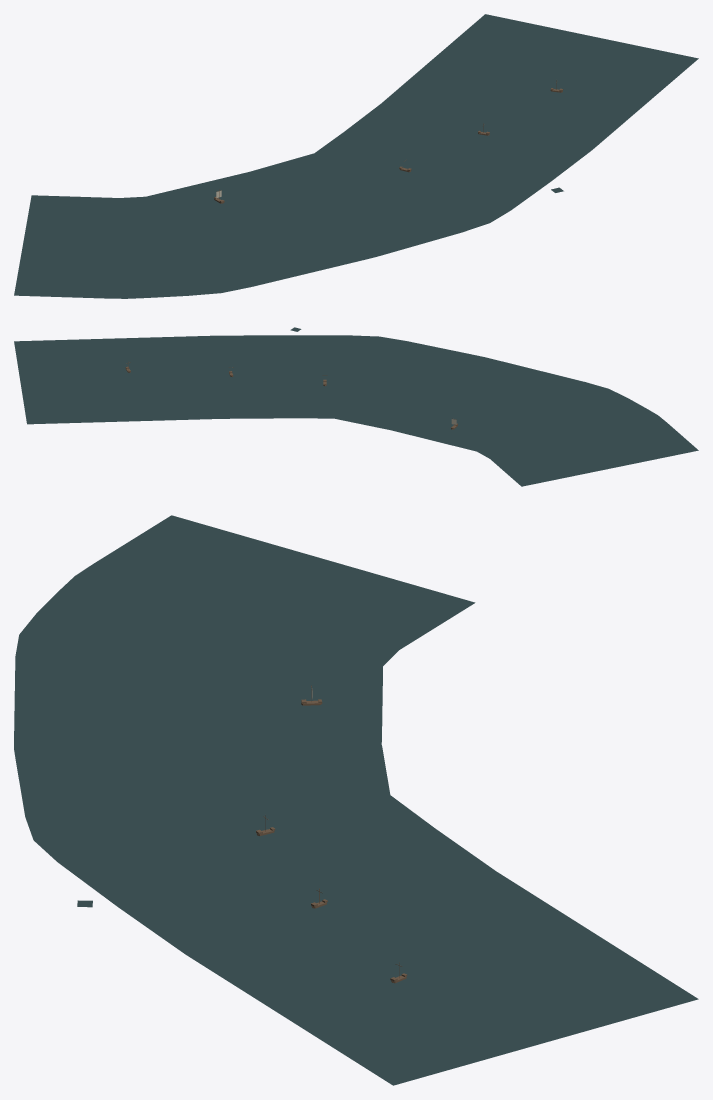
File: bordeaux_siege.glb
3 views of the same model, one above another, from view 1: azimuth 30°, elevation 25°; view 2: azimuth 150°, elevation 25°; view 3: azimuth 270°, elevation 25° (orthographic). The views are drawn at different scales.
Parts seen in each view (by area): view 1: ground; view 2: ground; view 3: ground.
Part boxes in pixels (x1,y1,x2,y2): ground: (14, 14, 698, 298); ground: (14, 327, 698, 486); ground: (14, 515, 698, 1085).
Bounding box in the file's own units: 2055 × 33.96 × 1043.
